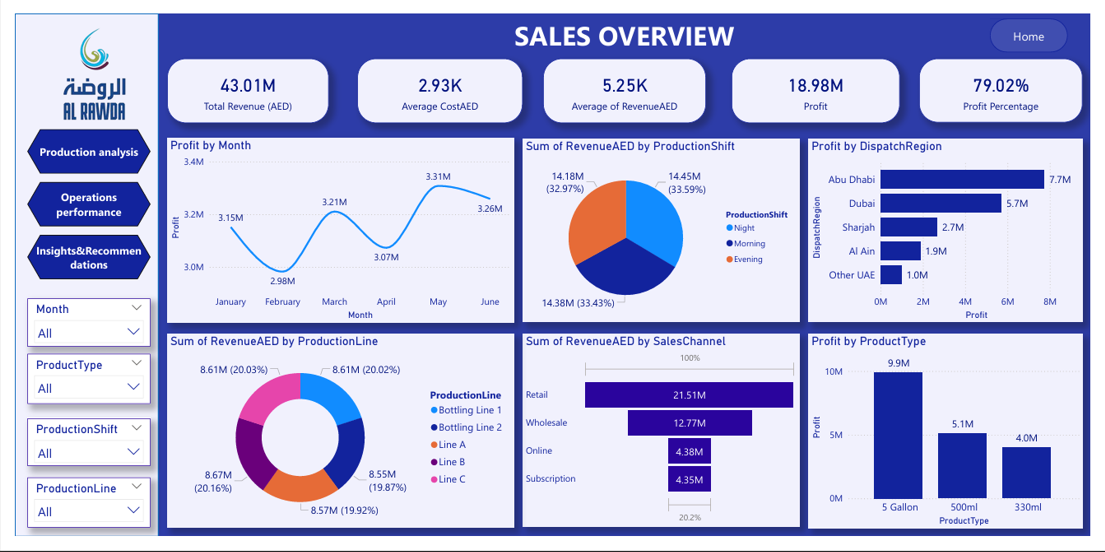

Layout of this report page (visuals, bound fields, positions):
{"tool":"powerbi","page":{"name":"Sales overview","canvas":[1730,840],"ordinal":2},"visuals":[{"type":"group","id":"g1","title":"Group 1","box":[0,0,244.4,840.7],"z":0},{"type":"shape","box":[0,0,231.5,840.7],"z":0,"group":"g1"},{"type":"textbox","box":[231.7,0,1498.3,71.7],"z":1000,"group":"g2"},{"type":"pageNavigator","box":[20.3,185.7,197.5,241.4],"z":2000},{"type":"card","fields":{"Values":["Sum(Table1.RevenueAED)"]},"box":[245,71.7,260,93.3],"z":3000},{"type":"card","fields":{"Values":["Avg(Table1.RevenueAED)"]},"box":[843.3,71.7,263.3,93.3],"z":4000},{"type":"card","fields":{"Values":["Table1.Profit"]},"box":[1150,71.7,271.7,93.3],"z":5000},{"type":"card","fields":{"Values":["Avg(Table1.CostAED)"]},"box":[536.7,71.7,266.7,93.3],"z":6000},{"type":"card","fields":{"Values":["Table1.Profit Percentage"]},"box":[1456.7,71.7,261.7,91.7],"z":7000},{"type":"lineChart","fields":{"Category":["Table1.Date.Variation.Date Hierarchy.Month"],"Y":["Table1.Profit"]},"box":[245,200,558.3,296.7],"z":8000},{"type":"funnel","fields":{"Category":["Table1.SalesChannel"],"Y":["Sum(Table1.RevenueAED)"]},"box":[816.7,515,446.7,310],"z":9000},{"type":"pieChart","fields":{"Y":["Sum(Table1.RevenueAED)"],"Category":["Table1.ProductionShift"]},"box":[816.7,201.7,446.7,295],"z":10000},{"type":"donutChart","fields":{"Y":["Sum(Table1.RevenueAED)"],"Series":["Table1.ProductionLine"]},"box":[245,515,558.3,311.7],"z":11000},{"type":"clusteredBarChart","fields":{"Category":["Table1.DispatchRegion"],"Y":["Table1.Profit"]},"box":[1276.7,201.7,441.7,295],"z":12000},{"type":"slicer","fields":{"Values":["Table1.Date.Variation.Date Hierarchy.Month"]},"box":[19.8,458,198.4,77.7],"z":13000},{"type":"slicer","fields":{"Values":["Table1.ProductType"]},"box":[19.8,547.3,198.4,81],"z":14000},{"type":"slicer","fields":{"Values":["Table1.ProductionShift"]},"box":[19.8,651.5,198.4,76.1],"z":15000},{"type":"slicer","fields":{"Values":["Table1.ProductionLine"]},"box":[19.8,745.7,198.4,81],"z":16000},{"type":"clusteredColumnChart","fields":{"Category":["Table1.ProductType"],"Y":["Table1.Profit"]},"box":[1276.7,515,441.7,313.3],"z":17000},{"type":"image","box":[16.7,0,227.8,201.9],"z":18000,"group":"g1"},{"type":"pageNavigator","box":[1568.4,8.3,125,53.3],"z":18000,"group":"g2"},{"type":"group","id":"g2","title":"Group 2","box":[231.7,0,1498.3,71.7],"z":18001}]}

Visuals, with their boxes in screenshot pixels (x1, y1, x2, y2), scaled from the page's 1730x840 canvas onto the 1105x552 screenshot:
"Group 1" group: <box>0,0,156,551</box>
shape: <box>0,0,148,551</box>
textbox: <box>148,0,1104,47</box>
pageNavigator: <box>13,122,139,281</box>
card - Sum(Table1.RevenueAED): <box>156,47,323,108</box>
card - Avg(Table1.RevenueAED): <box>539,47,707,108</box>
card - Table1.Profit: <box>735,47,908,108</box>
card - Avg(Table1.CostAED): <box>343,47,513,108</box>
card - Table1.Profit Percentage: <box>930,47,1098,107</box>
lineChart - Table1.Date.Variation.Date Hierarchy.Month x Table1.Profit: <box>156,131,513,326</box>
funnel - Table1.SalesChannel x Sum(Table1.RevenueAED): <box>522,338,807,542</box>
pieChart - Sum(Table1.RevenueAED) x Table1.ProductionShift: <box>522,133,807,326</box>
donutChart - Sum(Table1.RevenueAED) x Table1.ProductionLine: <box>156,338,513,543</box>
clusteredBarChart - Table1.DispatchRegion x Table1.Profit: <box>815,133,1098,326</box>
slicer - Table1.Date.Variation.Date Hierarchy.Month: <box>13,301,139,352</box>
slicer - Table1.ProductType: <box>13,360,139,413</box>
slicer - Table1.ProductionShift: <box>13,428,139,478</box>
slicer - Table1.ProductionLine: <box>13,490,139,543</box>
clusteredColumnChart - Table1.ProductType x Table1.Profit: <box>815,338,1098,544</box>
image: <box>11,0,156,133</box>
pageNavigator: <box>1002,5,1082,40</box>
"Group 2" group: <box>148,0,1104,47</box>
